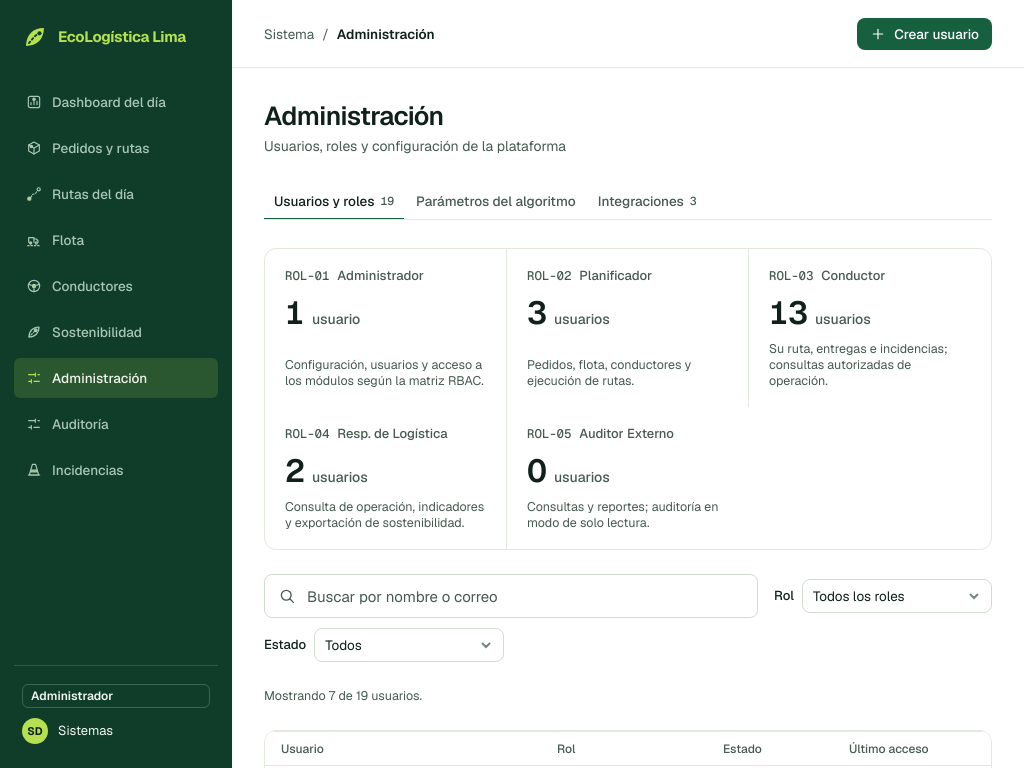
Test: AdminView · usuarios y roles › busca por nombre o correo (sin tildes) y filtra por rol y estado
The width and height of the screenshot is (1024, 768).
Type "HUAMAN" into the search field named "Buscar usuarios" at (511, 596), box left=264, top=574, right=758, bottom=618
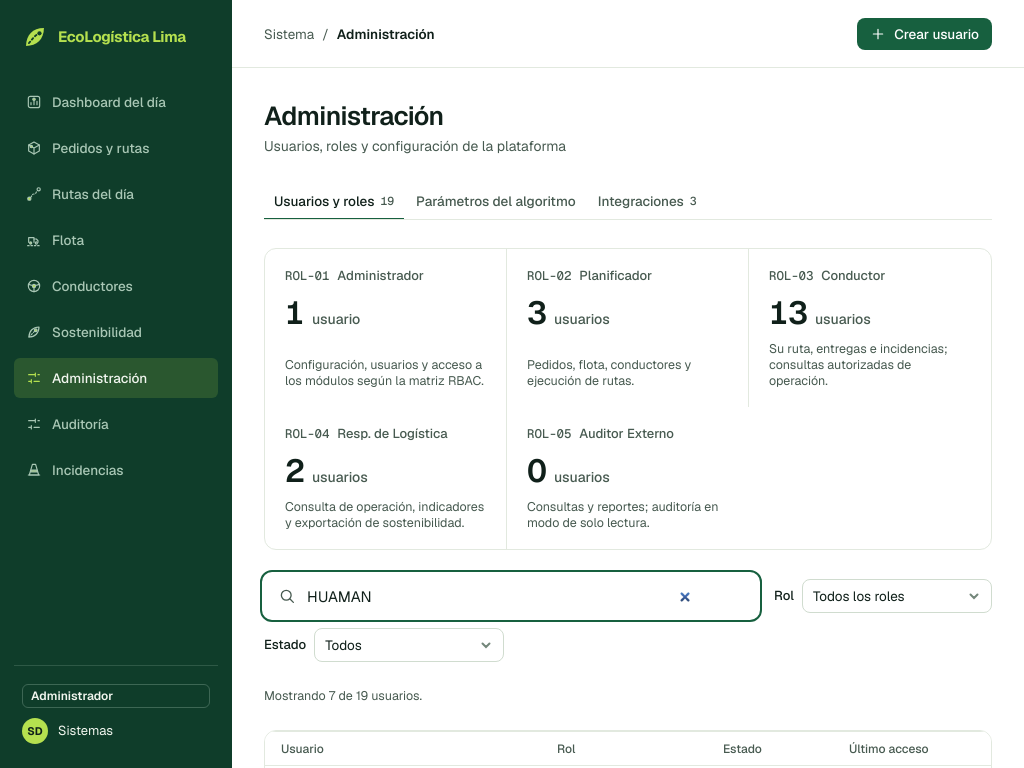
Clear the search field named "Buscar usuarios" at (511, 596), box left=264, top=574, right=758, bottom=618
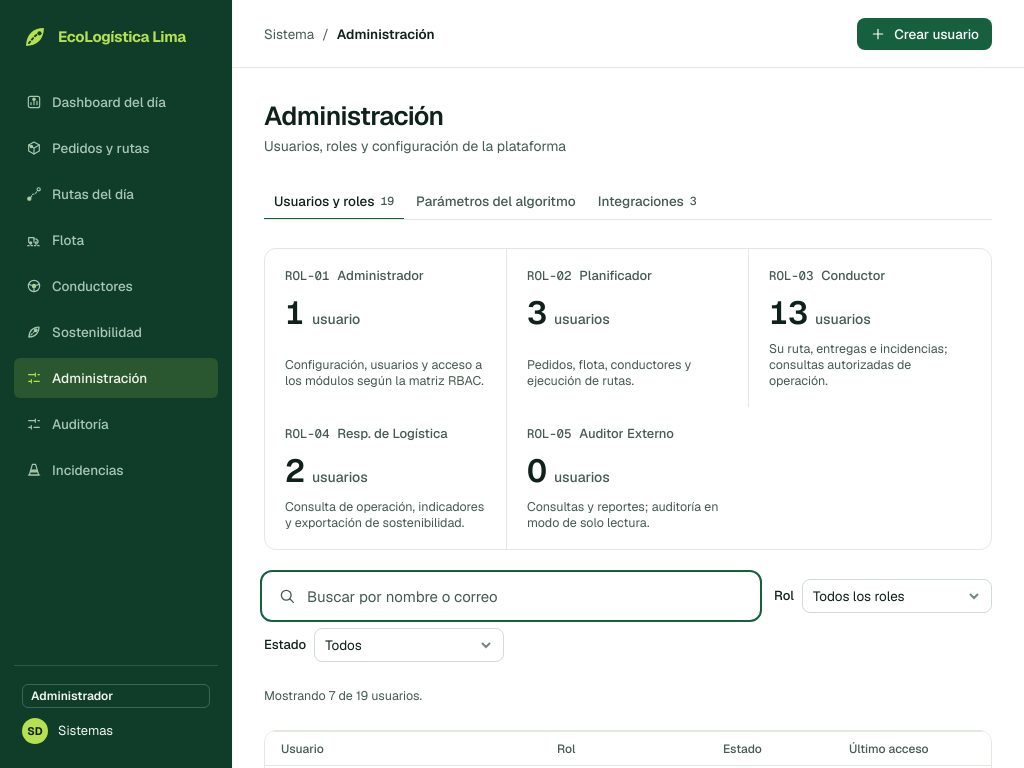
Select "Planificador" in the dropdown labelled "Rol" at (897, 596), box left=802, top=579, right=992, bottom=613
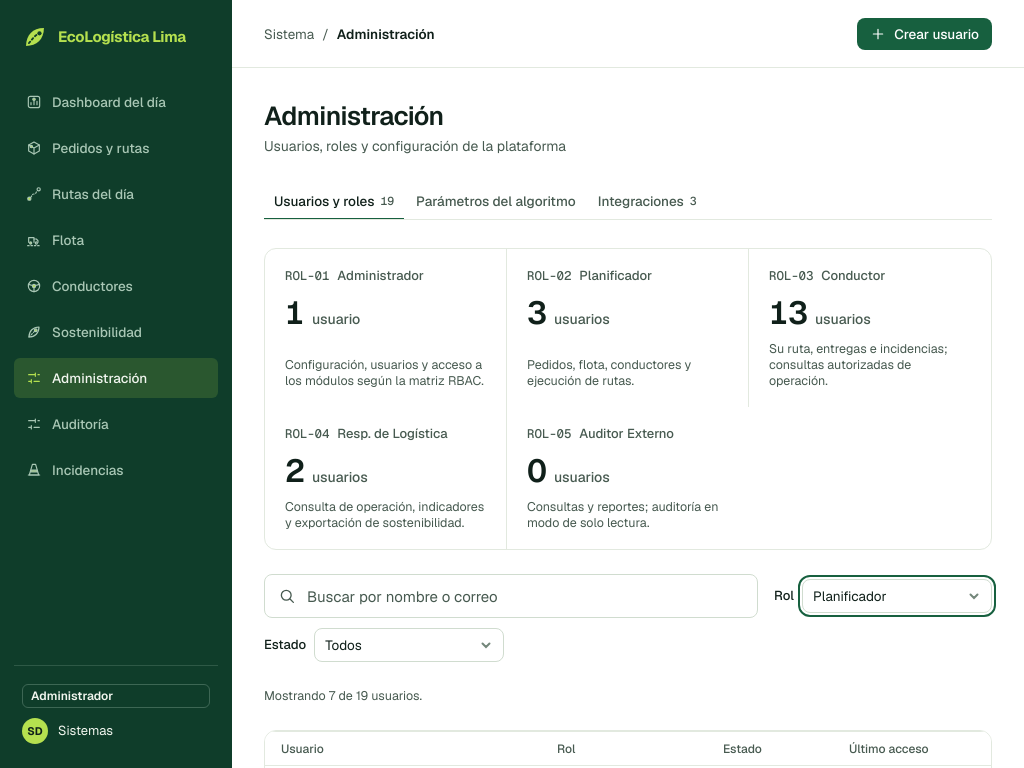
Select "Todos los roles" in the dropdown labelled "Rol" at (897, 596), box left=802, top=579, right=992, bottom=613
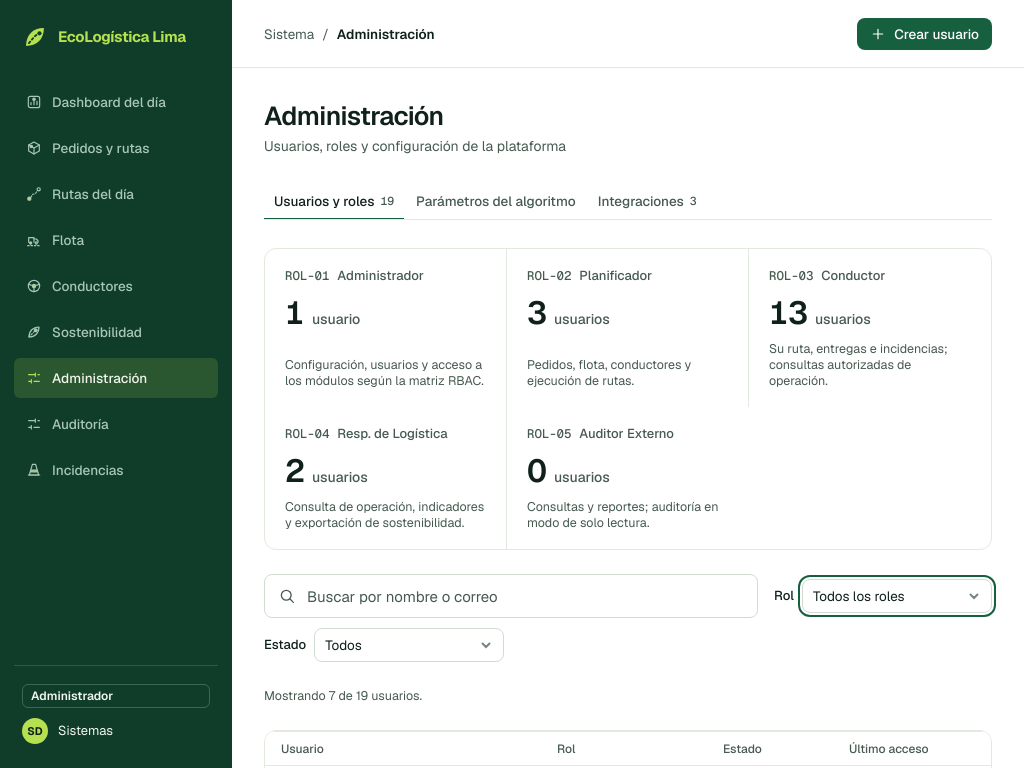
Select "Inactivo" in the dropdown labelled "Estado" at (409, 645), box left=314, top=628, right=504, bottom=662
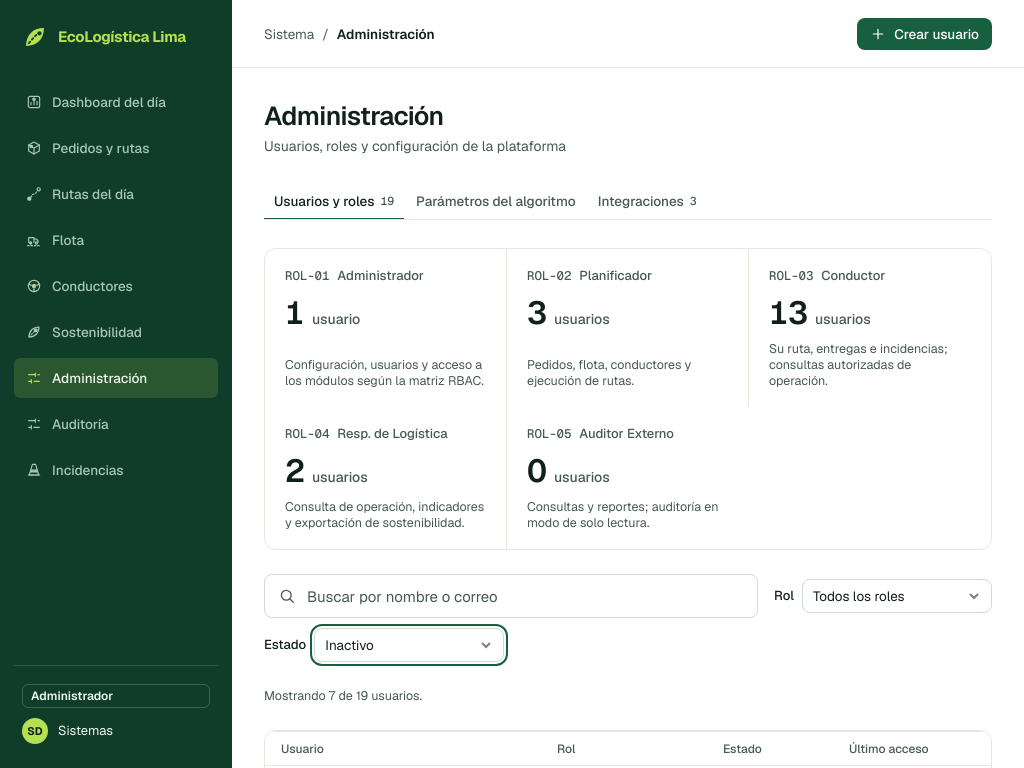
Type "zzz" into the search field named "Buscar usuarios" at (511, 596), box left=264, top=574, right=758, bottom=618
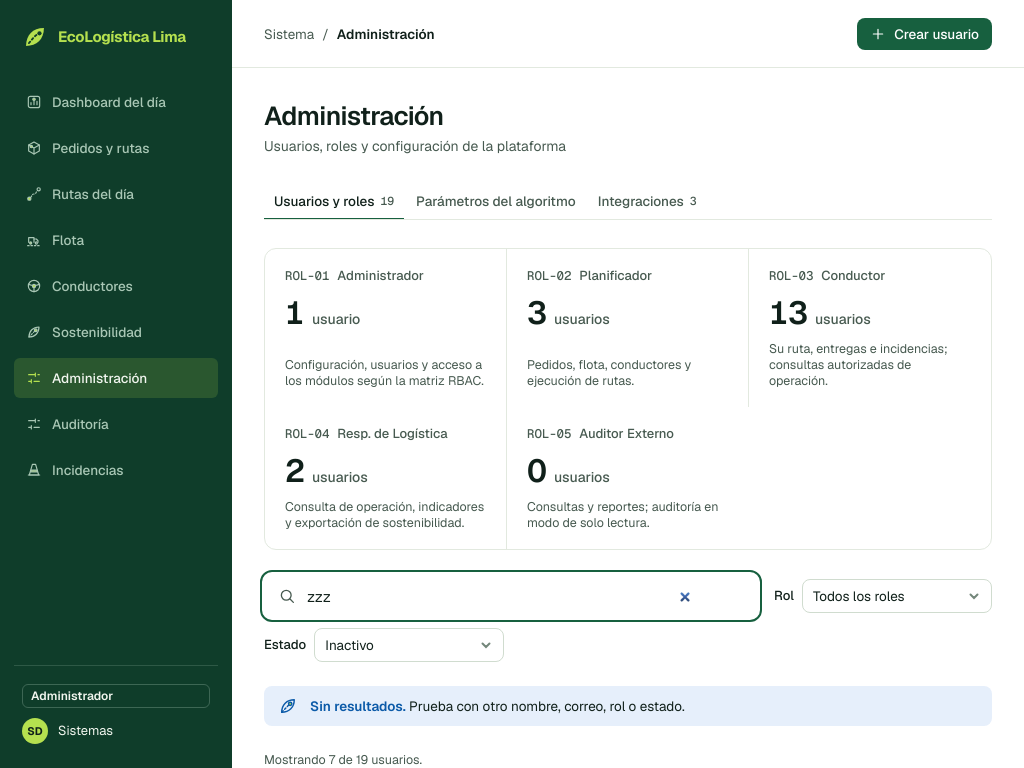
Check: the text "Sin resultados." is shown, box left=310, top=697, right=409, bottom=715
